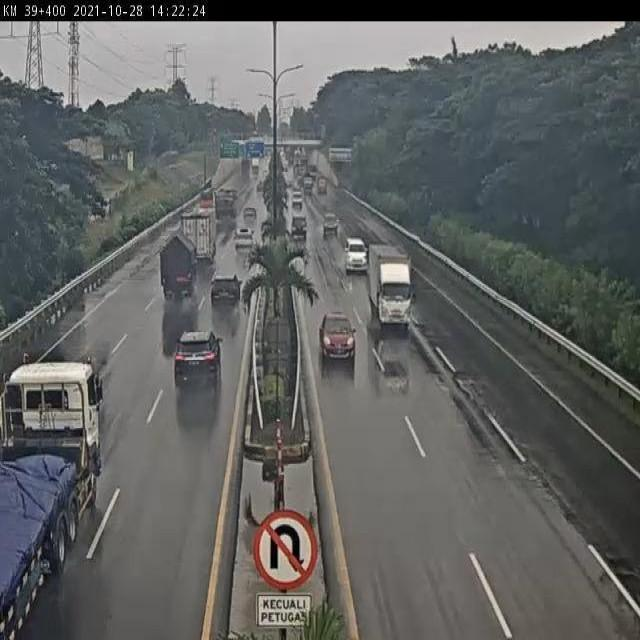car: (172, 326, 225, 398), (319, 310, 358, 370), (209, 272, 242, 309)
truck-l-: (174, 209, 218, 268)
truck-m-: (159, 235, 199, 302)
truck-s-: (367, 242, 413, 330)
truck-xl-: (0, 365, 97, 640)
